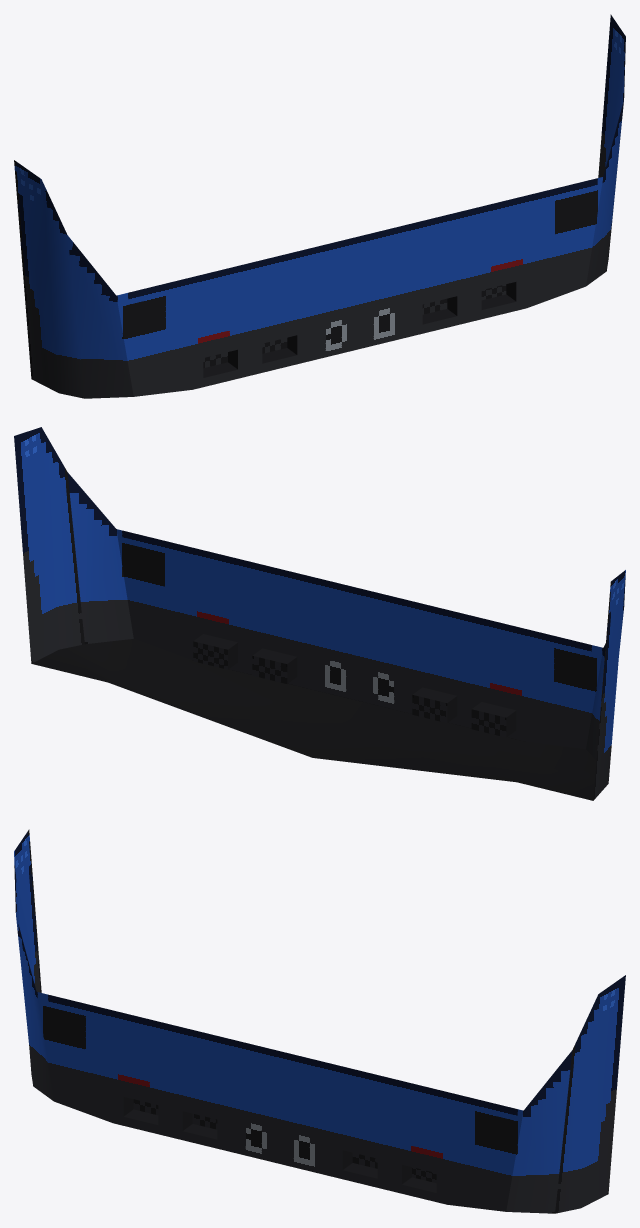
File: bumper_R_diffuser.glb
The picture shows the model from 3 angles, top to bottom: view 1: azimuth 30°, elevation 25°; view 2: azimuth 150°, elevation 25°; view 3: azimuth 330°, elevation 25°; orthographic projection.
Visible parts, largest first — view 1: bumper_R_diffuser; view 2: bumper_R_diffuser; view 3: bumper_R_diffuser.
Part boxes in pixels (left/top/right/bottom): bumper_R_diffuser: left=14, top=14, right=625, bottom=398; bumper_R_diffuser: left=14, top=427, right=625, bottom=800; bumper_R_diffuser: left=14, top=829, right=625, bottom=1213.
Bounding box in the file's own units: 1.72 × 0.6842 × 0.2365.
1 material, 1 textured.
